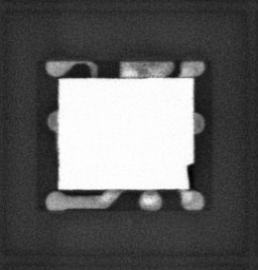DIE_BROKEN: (185, 161, 197, 190)
